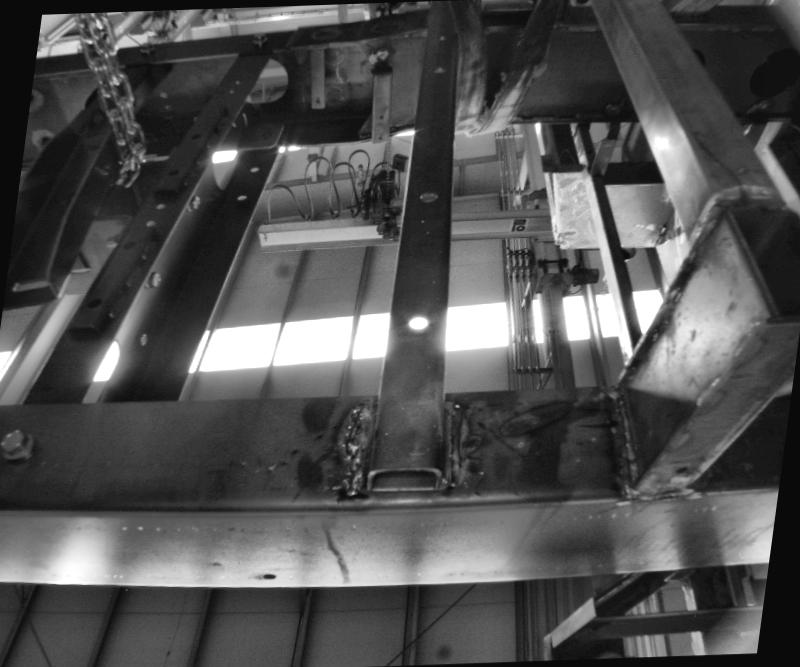bolt: (0, 428, 37, 460), (182, 192, 204, 213), (142, 272, 164, 292), (376, 48, 388, 58)
bracket: (362, 46, 398, 147), (230, 117, 288, 152), (302, 45, 332, 111), (584, 132, 624, 178)
hole: (400, 309, 433, 338), (415, 187, 442, 204), (136, 332, 150, 346), (86, 298, 102, 310), (676, 464, 689, 476), (144, 218, 156, 226), (236, 194, 246, 202), (155, 203, 166, 209), (262, 574, 275, 579), (249, 166, 259, 172), (314, 98, 322, 104), (378, 115, 384, 120), (376, 137, 384, 140)
welding: (432, 399, 480, 486), (338, 394, 364, 495)
